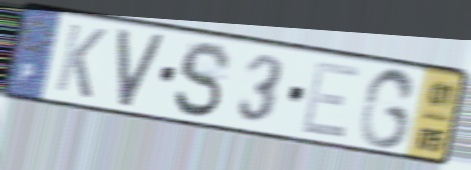3: (236, 53, 286, 126)
E: (297, 58, 364, 142)
G: (355, 65, 420, 152)
K: (52, 19, 110, 102)
S: (170, 38, 235, 121)
V: (115, 26, 170, 111)
